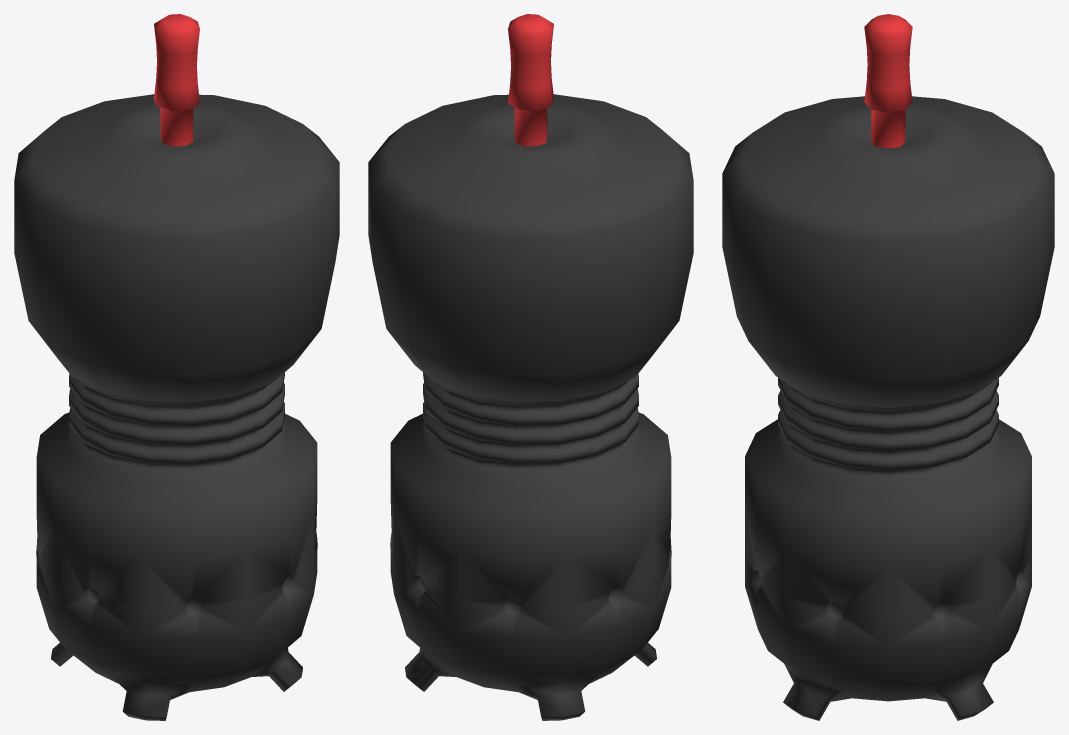
File: EMP Grenade.fbx
The picture shows the model from 3 angles, left to right: view 1: azimuth 30°, elevation 25°; view 2: azimuth 150°, elevation 25°; view 3: azimuth 270°, elevation 25°; orthographic projection.
Visible parts, largest first — view 1: Granade, Granade.001; view 2: Granade, Granade.001; view 3: Granade, Granade.001.
Part boxes in pixels (left/top/right/bottom): Granade: left=14, top=94, right=339, bottom=720; Granade.001: left=154, top=14, right=199, bottom=146; Granade: left=368, top=94, right=693, bottom=720; Granade.001: left=508, top=14, right=553, bottom=146; Granade: left=722, top=96, right=1054, bottom=720; Granade.001: left=864, top=14, right=912, bottom=148.
Bounding box in the file's own units: 0.9124 × 2 × 0.9124.
